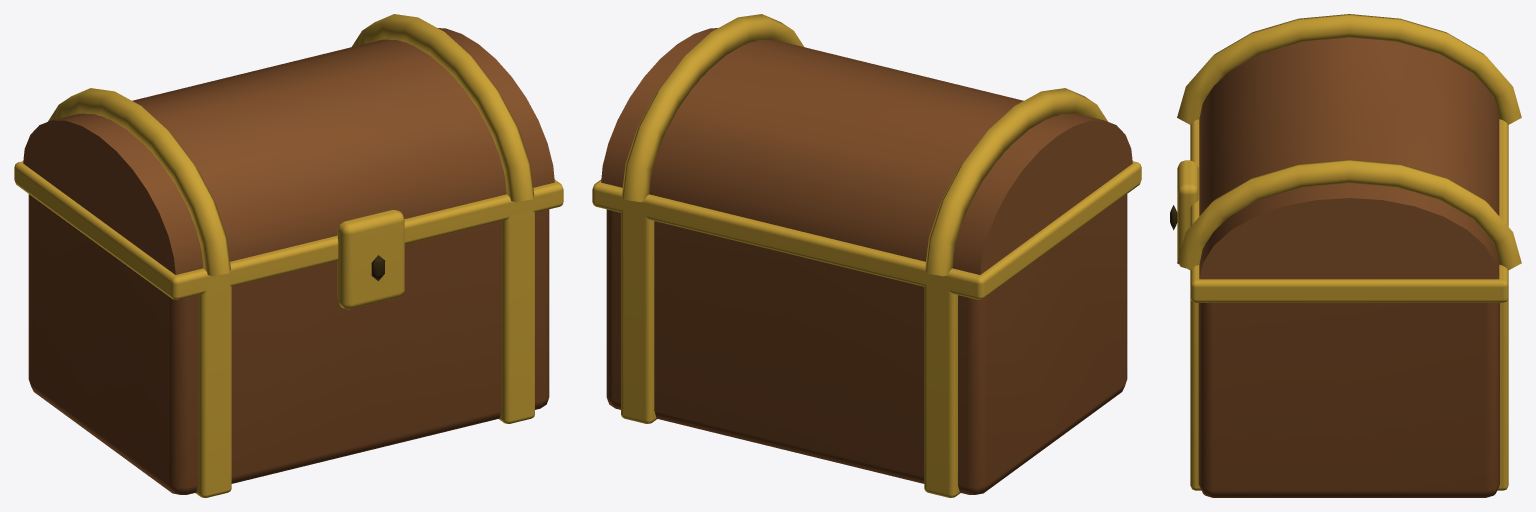
File: furn_treasure_chest.glb
3 views of the same model, side by side, from view 1: azimuth 30°, elevation 25°; view 2: azimuth 150°, elevation 25°; view 3: azimuth 270°, elevation 25° (orthographic).
Visible parts, largest first — view 1: furn_treasure_chest_main; view 2: furn_treasure_chest_main; view 3: furn_treasure_chest_main.
Boxes of the visible parts, box(x1,y1,x2,y2) form: furn_treasure_chest_main: box(14, 14, 563, 497); furn_treasure_chest_main: box(592, 14, 1141, 497); furn_treasure_chest_main: box(1170, 14, 1521, 497).
Bounding box in the file's own units: 0.62 × 0.501 × 0.4906.
